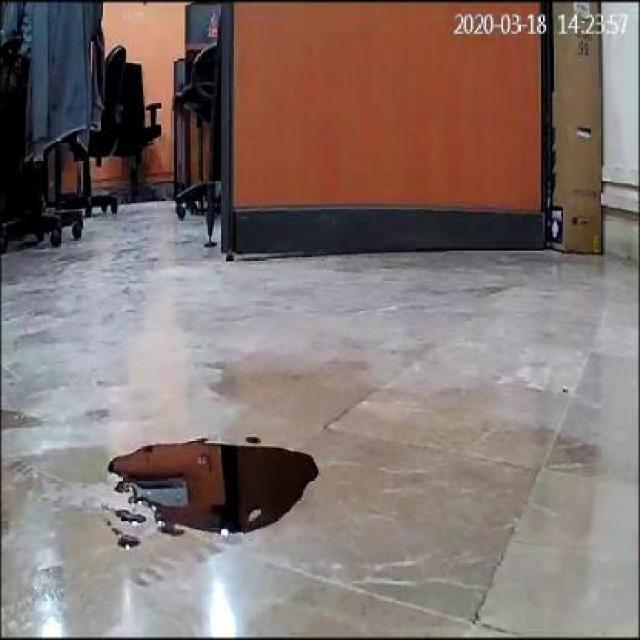spill: (108, 436, 320, 538)
